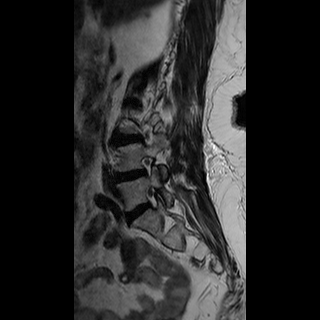RFS0: (136, 149, 158, 182), (140, 182, 163, 213)
